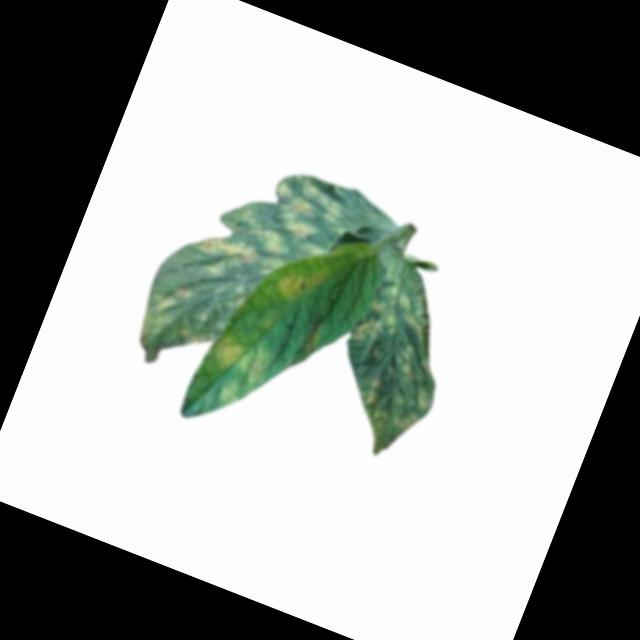Leaf_Mold: (135, 135, 353, 389), (309, 258, 475, 471), (267, 254, 327, 318), (211, 330, 275, 386), (212, 375, 244, 414)
